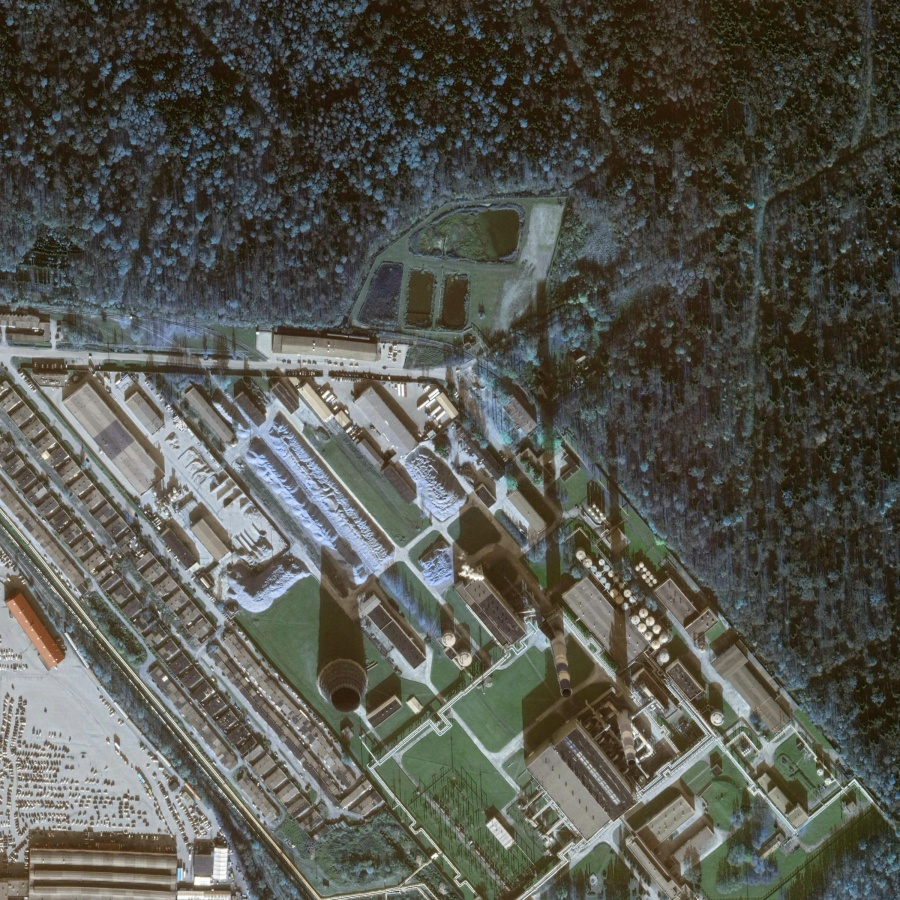PowerPlant: (292, 436, 828, 883)
